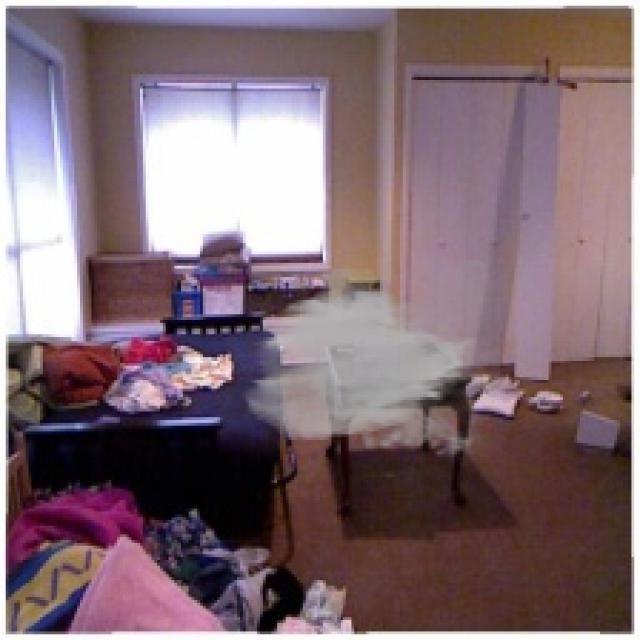Smoke: (240, 260, 500, 463)
